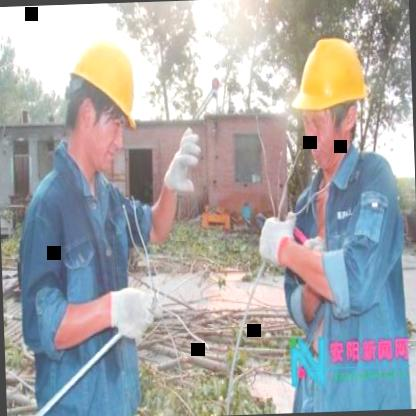helmet: (53, 21, 146, 180), (285, 28, 375, 172)
